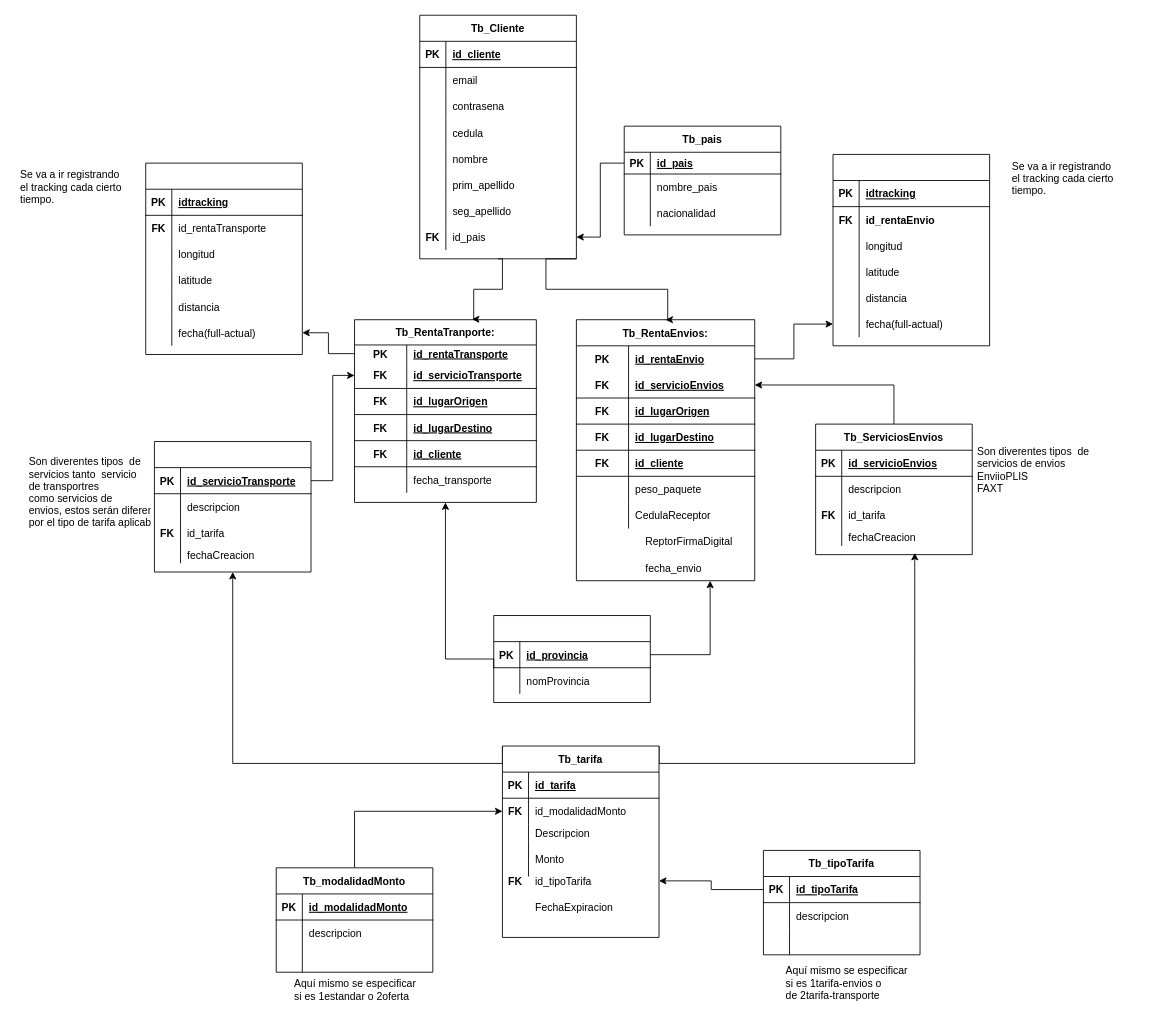
The diagram is 1152 pixels wide and 1034 high, and some of its shapes have lost their labels. The shapes that lost their labels are listed below. From the top down, each one's box as (x1, y1, x2, y2) in pixels, then its label:
(145, 162, 302, 355): Tb_TrackingTranp
(832, 154, 990, 346): Tb_TrackingEnvios
(154, 441, 311, 572): Tb_ServiciosTransp
(493, 615, 650, 703): Tb_Provincia
